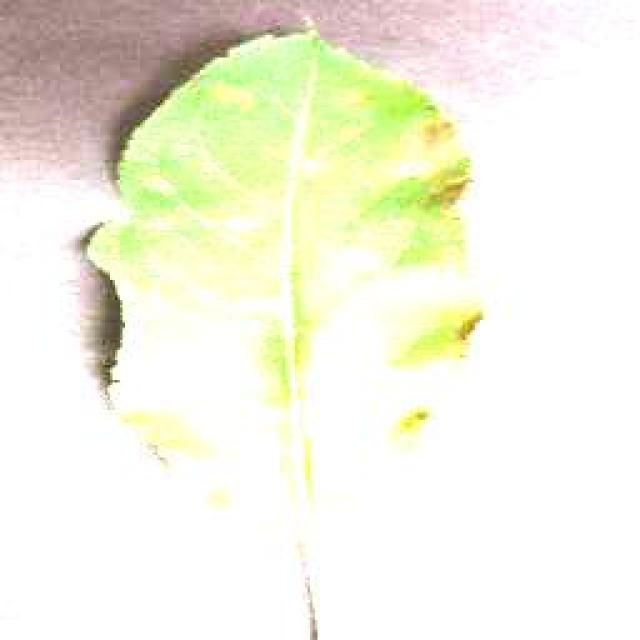apple scab disease: (72, 20, 488, 638)
